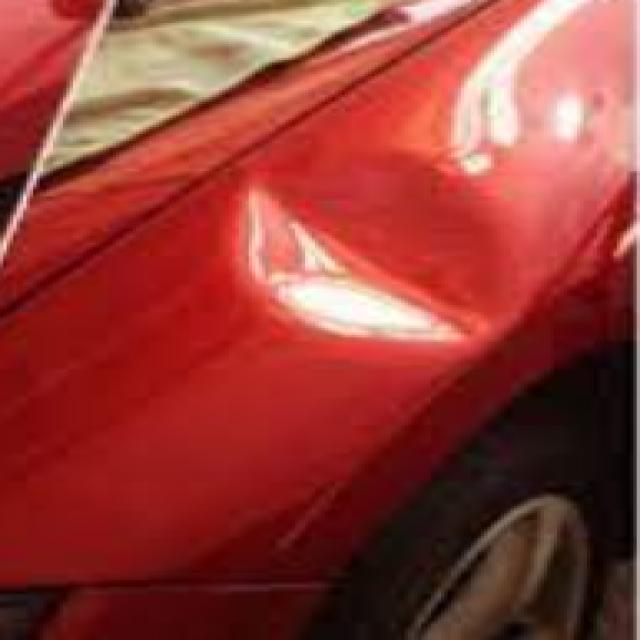dents: (186, 167, 578, 336)
